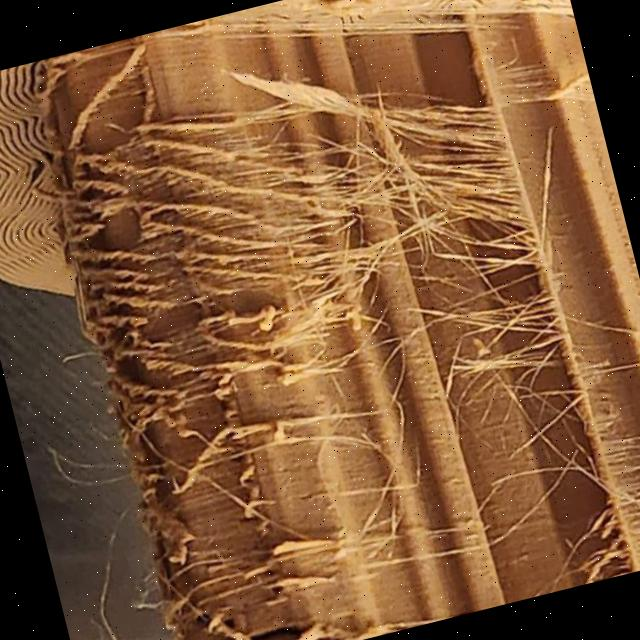stringing: (229, 72, 548, 324), (440, 281, 612, 498)
